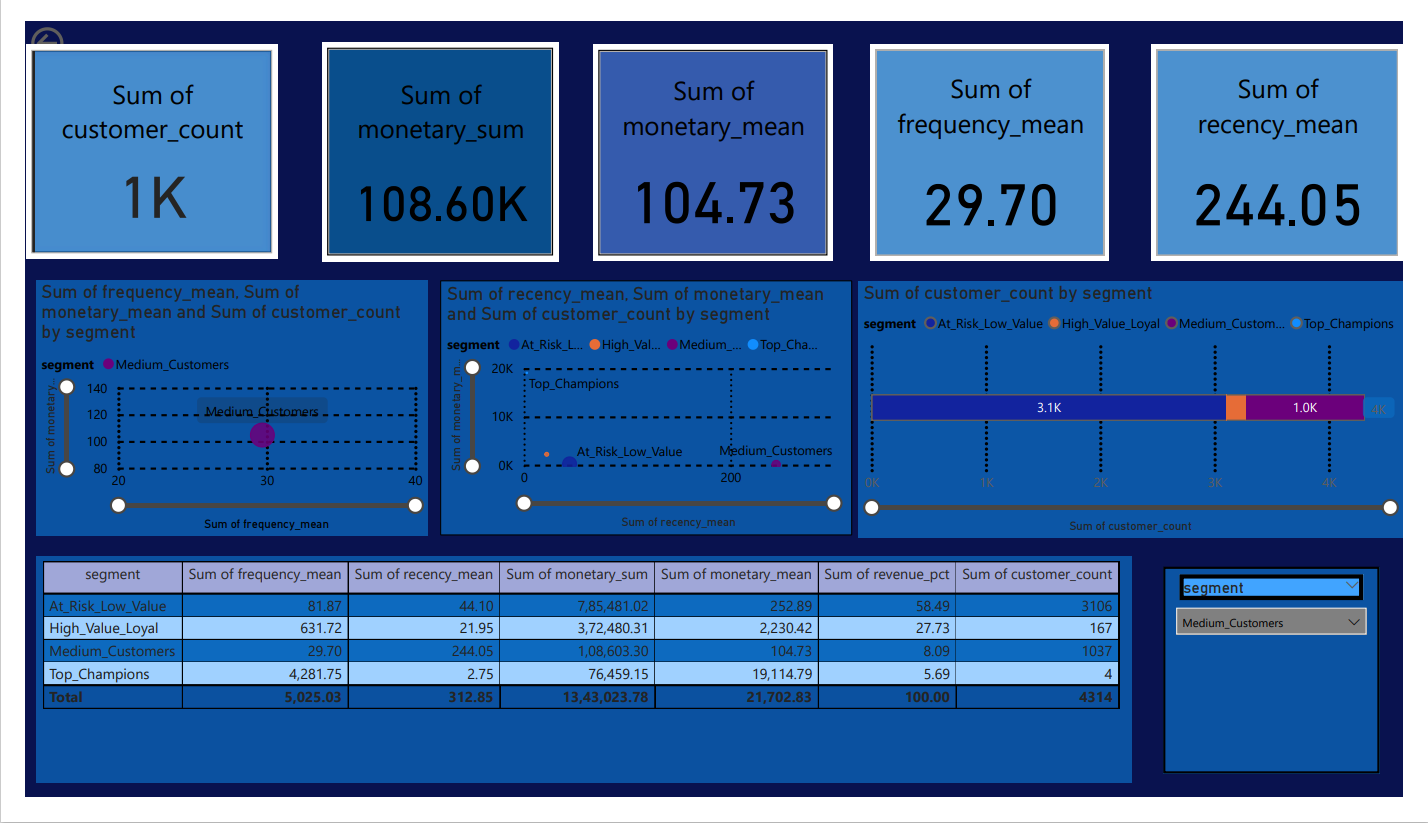

The page's visual inventory and layout, read from the dashboard file:
{"tool":"powerbi","page":{"name":"Page 1","canvas":[1280,720],"ordinal":0},"visuals":[{"type":"scatterChart","fields":{"X":["Sum(RFM_SegmentSummary_Enhanced.frequency_mean)"],"Y":["Sum(RFM_SegmentSummary_Enhanced.monetary_mean)"],"Series":["RFM_SegmentSummary_Enhanced.segment"],"Size":["Sum(RFM_SegmentSummary_Enhanced.customer_count)"]},"box":[10,240,364,237],"z":0},{"type":"scatterChart","fields":{"X":["Sum(RFM_SegmentSummary_Enhanced.recency_mean)"],"Y":["Sum(RFM_SegmentSummary_Enhanced.monetary_mean)"],"Series":["RFM_SegmentSummary_Enhanced.segment"],"Size":["Sum(RFM_SegmentSummary_Enhanced.customer_count)"]},"box":[385,240,383,237],"z":1000},{"type":"barChart","fields":{"Y":["Sum(RFM_SegmentSummary_Enhanced.customer_count)"],"Series":["RFM_SegmentSummary_Enhanced.segment"]},"box":[773.8,241.2,506.2,237.5],"z":2000},{"type":"slicer","fields":{"Values":["RFM_SegmentSummary_Enhanced.segment"]},"box":[1056.7,505.5,201.7,192.1],"z":3000},{"type":"tableEx","fields":{"Values":["RFM_SegmentSummary_Enhanced.segment","Sum(RFM_SegmentSummary_Enhanced.frequency_mean)","Sum(RFM_SegmentSummary_Enhanced.recency_mean)","Sum(RFM_SegmentSummary_Enhanced.monetary_sum)","Sum(RFM_SegmentSummary_Enhanced.monetary_mean)","Sum(RFM_SegmentSummary_Enhanced.revenue_pct)","Sum(RFM_SegmentSummary_Enhanced.customer_count)"]},"box":[10,496,1018,210],"z":4000},{"type":"actionButton","box":[0,0,100,40],"z":5000},{"type":"cardVisual","fields":{"Data":["Sum(RFM_SegmentSummary_Enhanced.customer_count)","select"]},"box":[0,21,234,199],"z":6000},{"type":"cardVisual","fields":{"Data":["Sum(RFM_SegmentSummary_Enhanced.monetary_sum)"]},"box":[275,18.8,220,203.8],"z":7000},{"type":"cardVisual","fields":{"Data":["Sum(RFM_SegmentSummary_Enhanced.monetary_mean)"]},"box":[527,21,223,201],"z":8000},{"type":"cardVisual","fields":{"Data":["Sum(RFM_SegmentSummary_Enhanced.frequency_mean)"]},"box":[785,21,222,201],"z":9000},{"type":"cardVisual","fields":{"Data":["Sum(RFM_SegmentSummary_Enhanced.recency_mean)"]},"box":[1046,21,234,201],"z":10000}]}

Visuals, with their boxes in screenshot pixels (x1, y1, x2, y2), scaled from the page's 1280x720 canvas onto the 1428x823 screenshot:
scatterChart - Sum(RFM_SegmentSummary_Enhanced.frequency_mean) x Sum(RFM_SegmentSummary_Enhanced.monetary_mean): [x1=11, y1=274, x2=417, y2=545]
scatterChart - Sum(RFM_SegmentSummary_Enhanced.recency_mean) x Sum(RFM_SegmentSummary_Enhanced.monetary_mean): [x1=430, y1=274, x2=857, y2=545]
barChart - Sum(RFM_SegmentSummary_Enhanced.customer_count) x RFM_SegmentSummary_Enhanced.segment: [x1=863, y1=276, x2=1427, y2=547]
slicer - RFM_SegmentSummary_Enhanced.segment: [x1=1179, y1=578, x2=1404, y2=797]
tableEx - RFM_SegmentSummary_Enhanced.segment x Sum(RFM_SegmentSummary_Enhanced.frequency_mean): [x1=11, y1=567, x2=1147, y2=807]
actionButton: [x1=0, y1=0, x2=112, y2=46]
cardVisual - Sum(RFM_SegmentSummary_Enhanced.customer_count) x select: [x1=0, y1=24, x2=261, y2=251]
cardVisual - Sum(RFM_SegmentSummary_Enhanced.monetary_sum): [x1=307, y1=21, x2=552, y2=254]
cardVisual - Sum(RFM_SegmentSummary_Enhanced.monetary_mean): [x1=588, y1=24, x2=837, y2=254]
cardVisual - Sum(RFM_SegmentSummary_Enhanced.frequency_mean): [x1=876, y1=24, x2=1123, y2=254]
cardVisual - Sum(RFM_SegmentSummary_Enhanced.recency_mean): [x1=1167, y1=24, x2=1427, y2=254]
